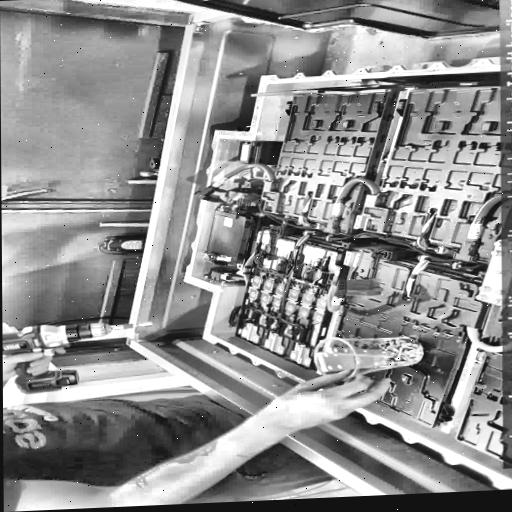high_volt_cable: (205, 157, 277, 194), (462, 190, 512, 241), (330, 175, 382, 222), (465, 306, 512, 357), (324, 271, 357, 313), (226, 254, 258, 286)
low_volt_cable: (252, 213, 489, 279)
nut: (478, 284, 491, 291), (476, 293, 486, 300), (494, 288, 504, 295), (494, 240, 504, 247), (491, 297, 500, 304), (491, 249, 500, 256)
